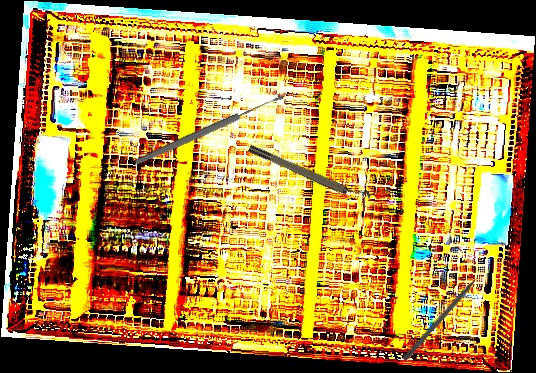Fixation Ring: (246, 137, 373, 209)
Pusher: (401, 266, 490, 363)
Surgical Spoon: (133, 92, 286, 167)
